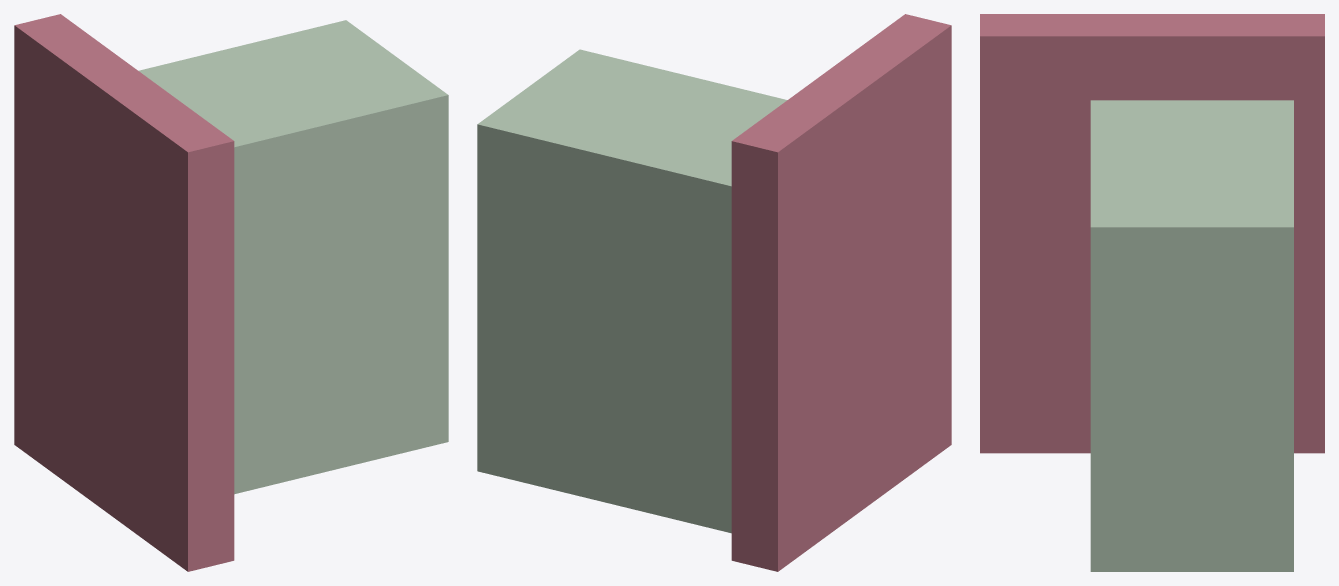
The model's file is 239506_pred.glb.
3 views of the same model, side by side, from view 1: azimuth 30°, elevation 25°; view 2: azimuth 150°, elevation 25°; view 3: azimuth 270°, elevation 25° (orthographic).
Parts seen in each view (by area): view 1: world; view 2: world; view 3: world.
Part boxes in pixels (box(x1,y1,x2,y2)): world: box(14, 14, 448, 571); world: box(477, 14, 951, 571); world: box(980, 14, 1324, 571).
Bounding box in the file's own units: 4.1 × 5.2 × 3.9.
